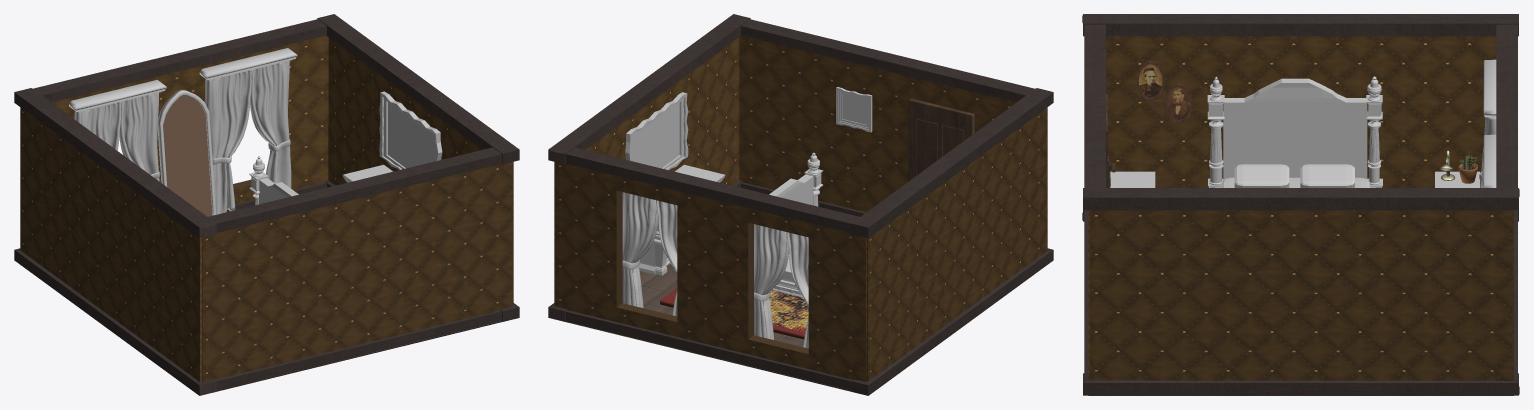
File: 5th_RoomRETEXTURE.fbx
The picture shows the model from 3 angles, left to right: view 1: azimuth 30°, elevation 25°; view 2: azimuth 150°, elevation 25°; view 3: azimuth 270°, elevation 25°; orthographic projection. The views are drawn at different scales.
Visible parts, largest first — view 1: 5_Wall3, 5_Wall2, 5_Wall1, 5_Wall4, 5_Curtains.001, 5_Curtains, 5_MirrorReflection, 5_Picframe3, 5_Mirror, 5_Bed, 5_Floor, 5_Fireplace; view 2: 5_Wall1, 5_Wall2, 5_Wall3, 5_Wall4, 5_Curtains.001, 5_Curtains, 5_Door, 5_Picframe3, 5_Floor, 5_Bed, 5_Carpet, 5_picFrameSquareFancy (+1 smaller); view 3: 5_Wall4, 5_Wall2, 5_Bed, 5_Wall1, 5_Wall3, 5_Curtains, 5_picFrames, 5_picFrame2, 5_Cupboard, 5_Curtains.001, 5_Cupboard.002, 5_Plant2 (+1 smaller).
Boxes of the visible parts, x1=… form: 5_Wall3: x1=202, y1=147, x2=512, y2=390; 5_Wall2: x1=14, y1=88, x2=216, y2=395; 5_Wall1: x1=33, y1=19, x2=328, y2=211; 5_Wall4: x1=317, y1=14, x2=519, y2=321; 5_Curtains.001: x1=199, y1=48, x2=297, y2=214; 5_Curtains: x1=69, y1=79, x2=166, y2=181; 5_MirrorReflection: x1=163, y1=95, x2=212, y2=216; 5_Picframe3: x1=379, y1=91, x2=442, y2=169; 5_Mirror: x1=158, y1=89, x2=216, y2=215; 5_Bed: x1=249, y1=156, x2=298, y2=205; 5_Floor: x1=216, y1=321, x2=501, y2=391; 5_Fireplace: x1=342, y1=164, x2=392, y2=182; 5_Wall1: x1=555, y1=147, x2=866, y2=390; 5_Wall2: x1=851, y1=88, x2=1053, y2=395; 5_Wall3: x1=739, y1=19, x2=1034, y2=216; 5_Wall4: x1=548, y1=14, x2=750, y2=321; 5_Curtains.001: x1=622, y1=192, x2=677, y2=316; 5_Curtains: x1=754, y1=224, x2=808, y2=348; 5_Door: x1=908, y1=98, x2=974, y2=181; 5_Picframe3: x1=625, y1=92, x2=688, y2=170; 5_Floor: x1=566, y1=263, x2=851, y2=391; 5_Bed: x1=769, y1=152, x2=823, y2=297; 5_Carpet: x1=660, y1=288, x2=808, y2=339; 5_picFrameSquareFancy: x1=836, y1=87, x2=872, y2=132; 5_Wall4: x1=1083, y1=188, x2=1519, y2=395; 5_Wall2: x1=1082, y1=14, x2=1518, y2=221; 5_Bed: x1=1207, y1=76, x2=1382, y2=187; 5_Wall1: x1=1496, y1=24, x2=1517, y2=379; 5_Wall3: x1=1084, y1=24, x2=1105, y2=379; 5_Curtains: x1=1479, y1=59, x2=1496, y2=187; 5_picFrames: x1=1165, y1=83, x2=1192, y2=122; 5_picFrame2: x1=1137, y1=61, x2=1164, y2=100; 5_Cupboard: x1=1110, y1=171, x2=1155, y2=187; 5_Curtains.001: x1=1483, y1=134, x2=1496, y2=187; 5_Cupboard.002: x1=1435, y1=171, x2=1479, y2=187; 5_Plant2: x1=1458, y1=155, x2=1477, y2=183.
Size of the model in its own units: 1003 by 509 by 1010.
